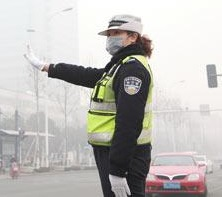person: (23, 13, 159, 197)
